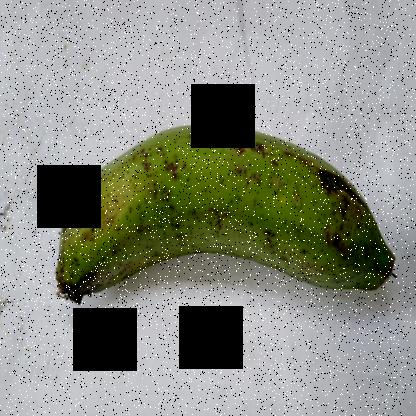unripe: (32, 112, 399, 328)
